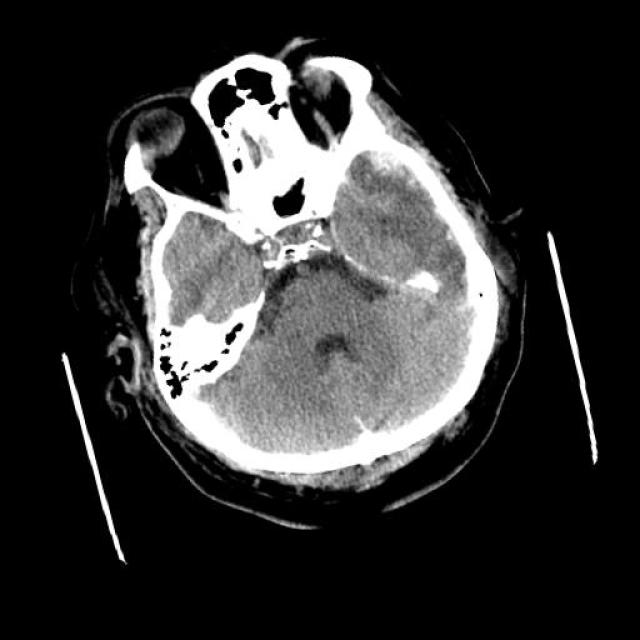Subdural: (331, 122, 435, 214)
